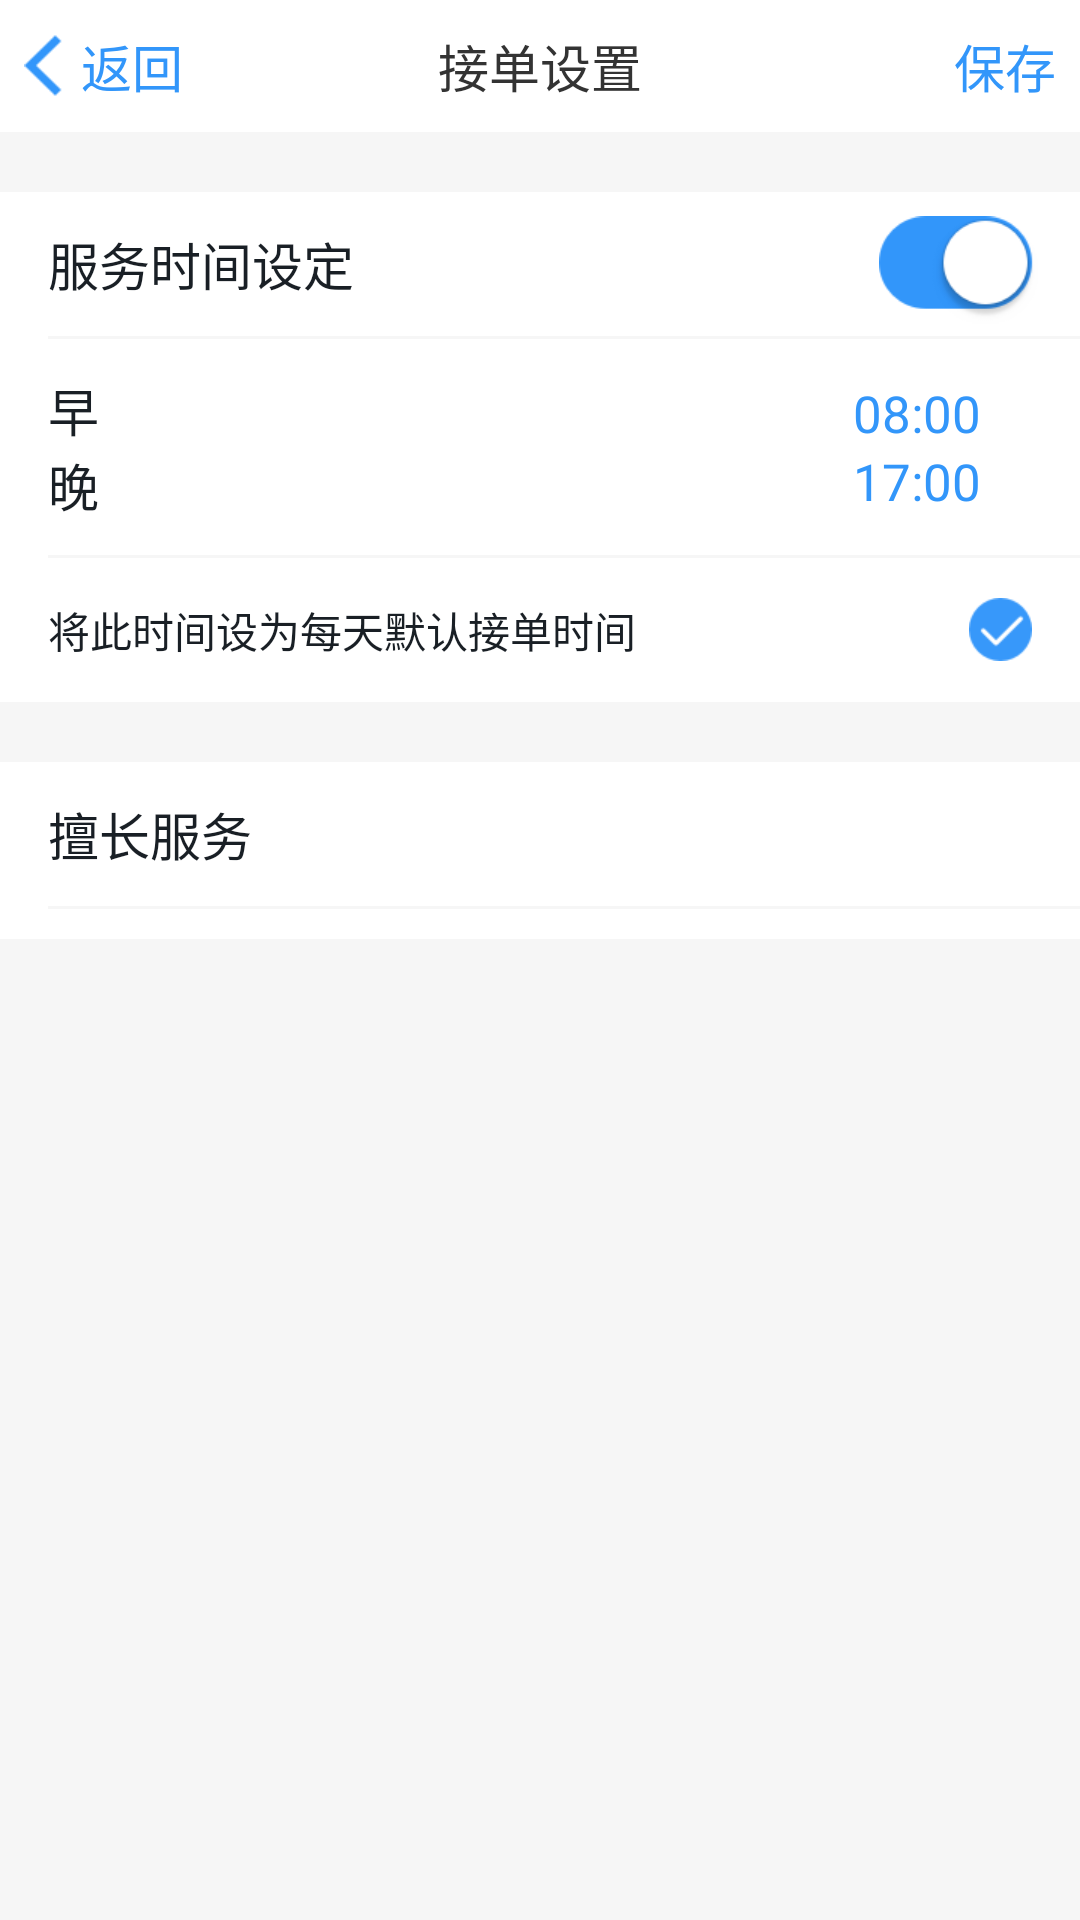

Icon bounding boxes for this 1080*1920 phone screenshot, format [x1, y1, x2, y2]:
true: [969, 598, 1032, 661]
